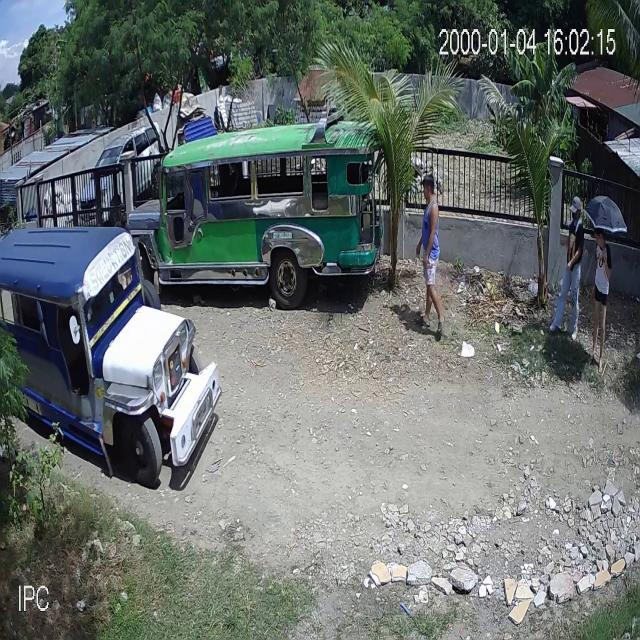standing: (587, 221, 613, 374), (112, 205, 133, 237)
walking: (414, 179, 453, 337), (550, 197, 582, 342)
